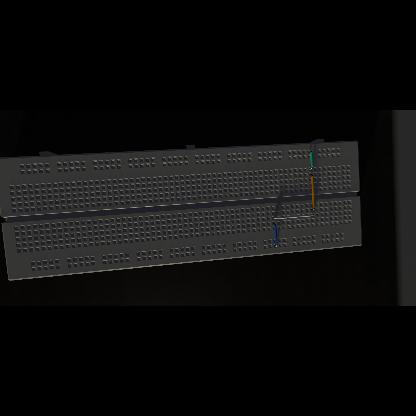breadboard: (0, 139, 362, 281)
wire: (272, 215, 314, 219), (310, 174, 314, 210), (273, 223, 277, 247), (309, 151, 313, 170)
